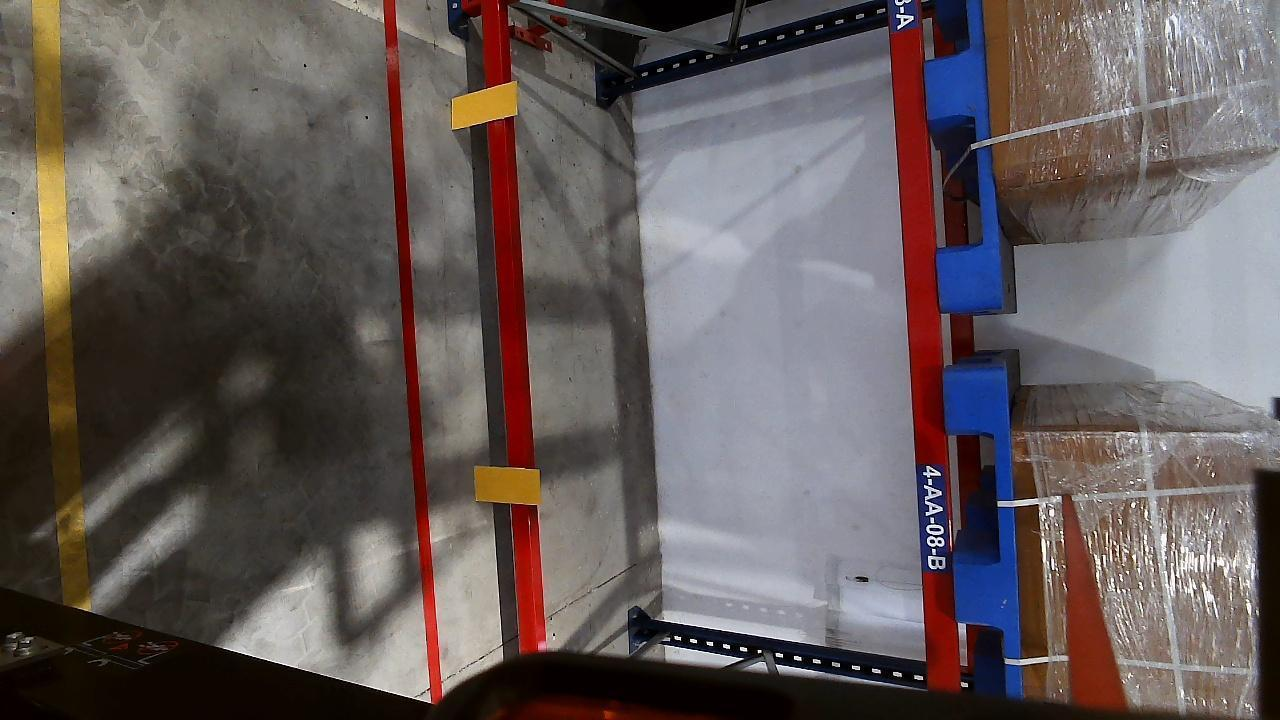red_line: (381, 0, 444, 693)
yellow_line: (27, 0, 85, 609)
